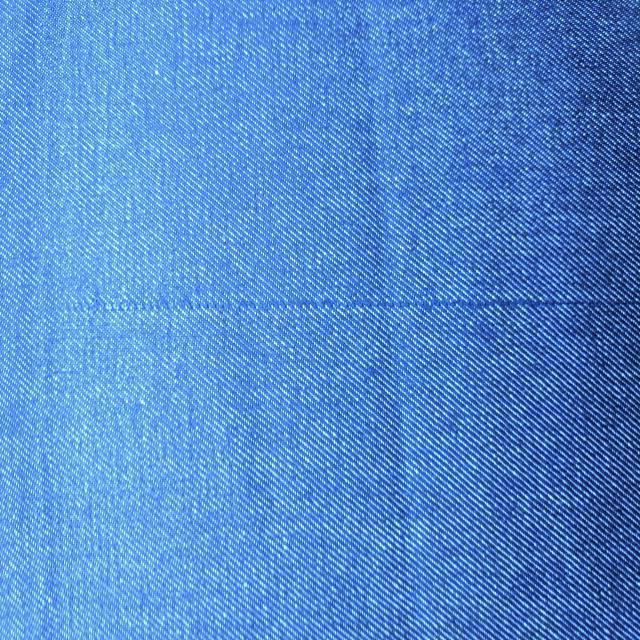Line: (65, 296, 640, 315)
